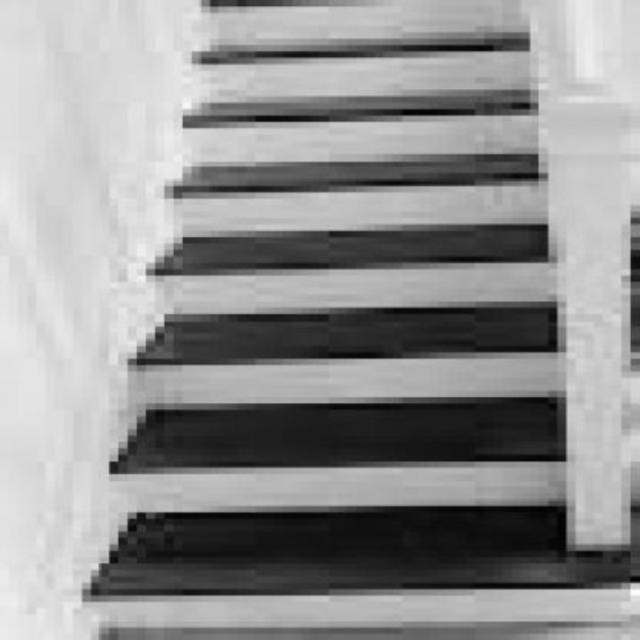stair: (0, 0, 636, 640)
